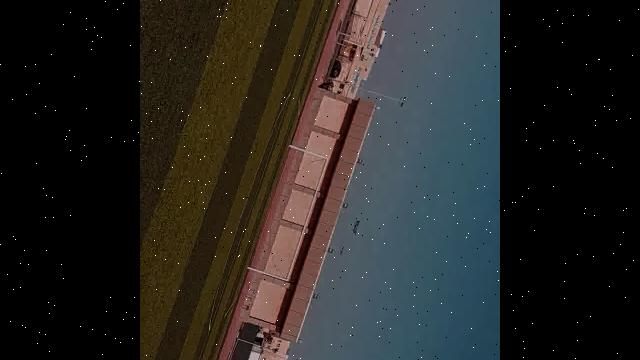drone: (352, 214, 364, 238)
